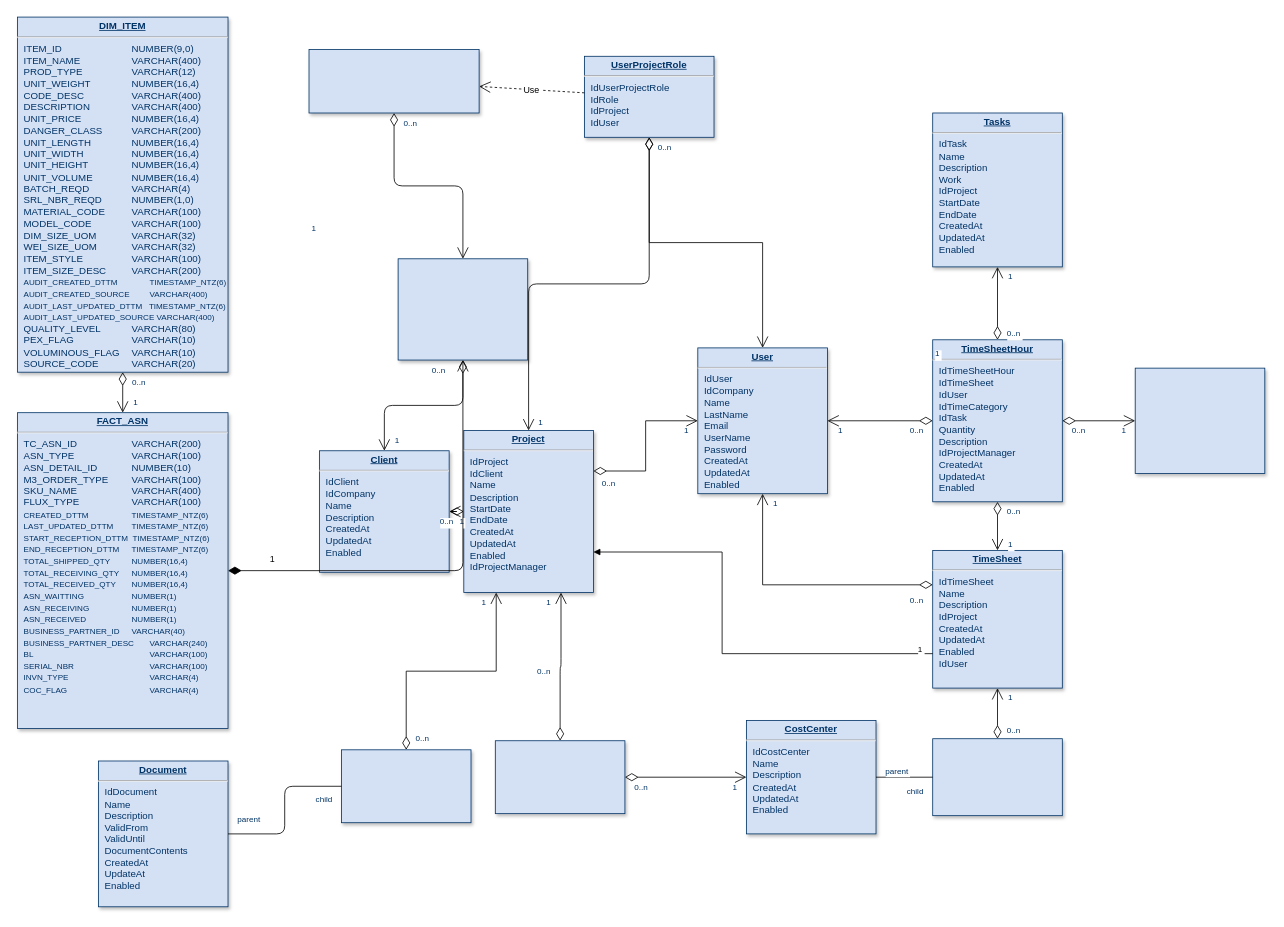
Some shapes in this 1284 by 927 pixel diagram are drawn without their labels. The centre of each missing label's shape, as x and y in pixels:
"Company Name Description CreatedAt UpdatedAt Enabled" belongs at [463,310].
"FACT_OD BL VARCHAR(100) BL_STATUS VARCHAR(100) RECEIVED_QTY NUMBER(16,4)" belongs at [394,82].
"ProjectCostCenter IdProjectCostCenter IdProject IdCostCenter" belongs at [560,778].
"ProjectDocument IdProjectDocument IdProject IdDocument" belongs at [406,787].
"TimeCategory IdTimeCategory Name Description CreatedAt UpdatedAt Enabled" belongs at [1200,421].
"TimeSheetCostCenter IdTimeSheetCostCenter IdTimeSheet IdCostCenter" belongs at [998,778].
